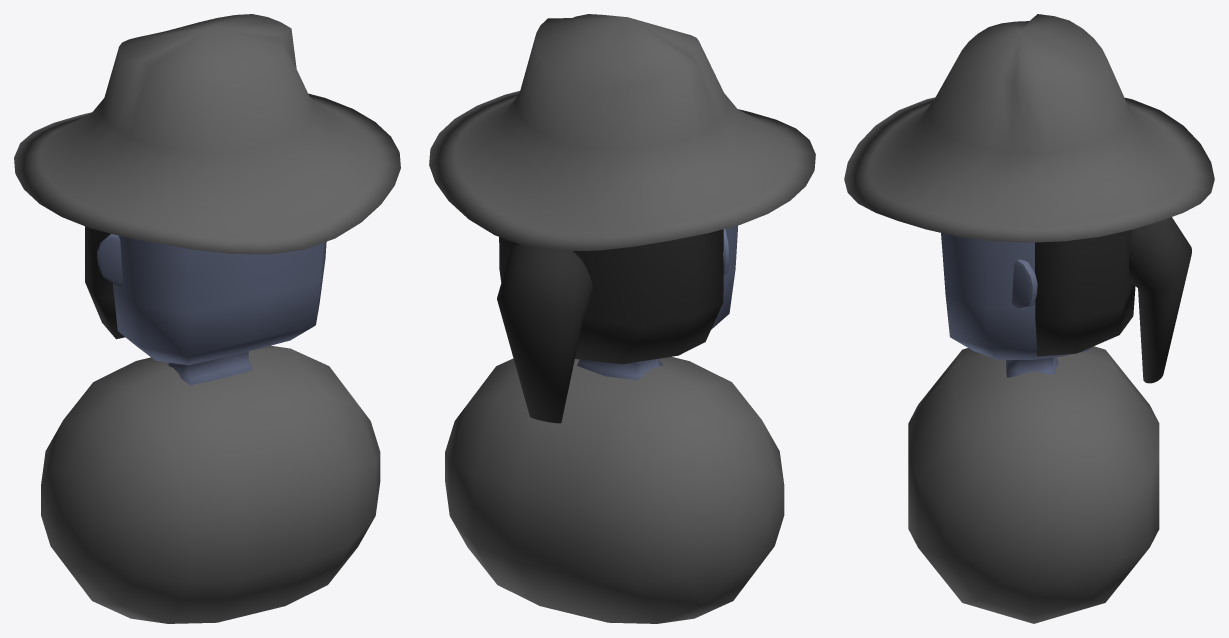
File: convobot_cop.fbx
3 renders of one model, left to right at view 1: azimuth 30°, elevation 25°; view 2: azimuth 150°, elevation 25°; view 3: azimuth 270°, elevation 25°, orthographic. The views are drawn at different scales.
Parts seen in each view (by area): view 1: Body.001, Cylinder.001, head.004, hair.002, R_ear.002; view 2: Body.001, Cylinder.001, hair.002, Cylinder.002, head.004; view 3: Body.001, Cylinder.001, hair.002, head.004, Cylinder.002, L_ear.002.
Part boxes in pixels (x1,y1,x2,y2): Body.001: (41, 345, 380, 623); Cylinder.001: (14, 14, 400, 254); head.004: (110, 233, 326, 385); hair.002: (85, 226, 124, 339); R_ear.002: (97, 234, 123, 286); Body.001: (445, 356, 784, 623); Cylinder.001: (429, 14, 815, 251); hair.002: (499, 229, 723, 364); Cylinder.002: (497, 244, 592, 423); head.004: (577, 225, 738, 380); Body.001: (908, 346, 1159, 623); Cylinder.001: (844, 14, 1214, 242); hair.002: (1035, 229, 1135, 356); head.004: (941, 233, 1091, 377); Cylinder.002: (1129, 217, 1191, 383); L_ear.002: (1012, 259, 1037, 308).
Bounding box in the file's own units: 983 × 1645 × 983.
